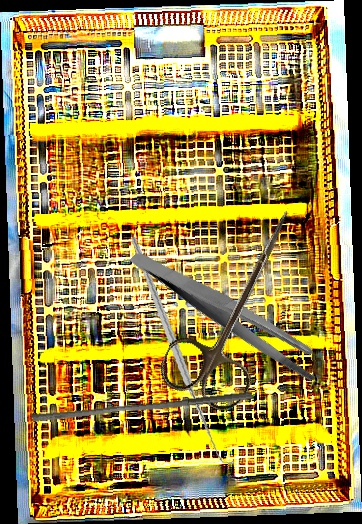Dressing Forceps: (128, 210, 328, 416)
Hook Surgical: (98, 236, 267, 465)
Iris Scissors: (153, 190, 324, 418)
Pusher: (31, 382, 254, 431)
